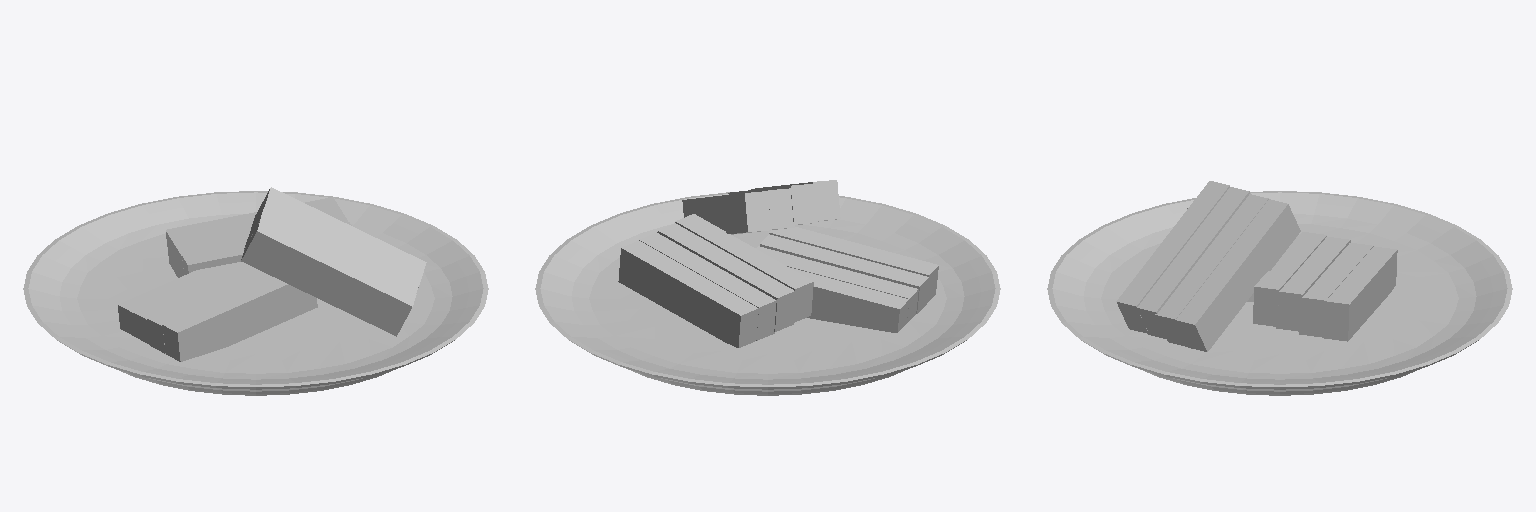
Rendered from kue lapis.obj.
The picture shows the model from 3 angles: view 1: azimuth 30°, elevation 25°; view 2: azimuth 150°, elevation 25°; view 3: azimuth 270°, elevation 25°; orthographic projection.
Visible parts, largest first — view 1: Cylinder_Cylinder.002, Cube.019_Cube.020, Cube.015_Cube.016, Cube.016_Cube.017, Cube.018_Cube.019, Cube.014_Cube.015, Cube.017_Cube.018, Cube.012_Cube.013, Cube.013_Cube.014, Cube.020_Cube.021, Cube.023_Cube.024, Cube.021_Cube.022 (+1 smaller); view 2: Cylinder_Cylinder.002, Cube.020_Cube.021, Cube.012_Cube.013, Cube.022_Cube.023, Cube.023_Cube.024, Cube.016_Cube.017, Cube.021_Cube.022, Cube.014_Cube.015, Cube.015_Cube.016, Cube.013_Cube.014, Cube.018_Cube.019, Cube.019_Cube.020 (+1 smaller); view 3: Cylinder_Cylinder.002, Cube.016_Cube.017, Cube.020_Cube.021, Cube.019_Cube.020, Cube.018_Cube.019, Cube.017_Cube.018, Cube.023_Cube.024, Cube.022_Cube.023, Cube.021_Cube.022.
Boxes of the visible parts, box(x1,y1,x2,y2) form: Cylinder_Cylinder.002: box(23, 191, 488, 395); Cube.019_Cube.020: box(241, 219, 416, 336); Cube.015_Cube.016: box(162, 276, 317, 361); Cube.016_Cube.017: box(251, 187, 426, 273); Cube.018_Cube.019: box(244, 208, 419, 292); Cube.014_Cube.015: box(147, 270, 270, 353); Cube.017_Cube.018: box(249, 199, 422, 287); Cube.012_Cube.013: box(118, 262, 243, 336); Cube.013_Cube.014: box(133, 263, 257, 344); Cube.020_Cube.021: box(166, 197, 337, 271); Cube.023_Cube.024: box(182, 222, 351, 274); Cube.021_Cube.022: box(171, 206, 342, 277); Cylinder_Cylinder.002: box(535, 192, 1000, 395); Cube.020_Cube.021: box(618, 241, 758, 347); Cube.012_Cube.013: box(789, 267, 908, 332); Cube.022_Cube.023: box(657, 223, 795, 331); Cube.023_Cube.024: box(675, 214, 813, 322); Cube.016_Cube.017: box(682, 191, 770, 234); Cube.021_Cube.022: box(639, 233, 776, 340); Cube.014_Cube.015: box(760, 234, 929, 313); Cube.015_Cube.016: box(769, 227, 938, 302); Cube.013_Cube.014: box(756, 246, 918, 322); Cube.018_Cube.019: box(728, 184, 817, 224); Cube.019_Cube.020: box(751, 180, 840, 221); Cylinder_Cylinder.002: box(1047, 191, 1512, 395); Cube.016_Cube.017: box(1175, 199, 1300, 351); Cube.020_Cube.021: box(1323, 246, 1397, 341); Cube.019_Cube.020: box(1116, 181, 1229, 333); Cube.018_Cube.019: box(1137, 187, 1249, 338); Cube.017_Cube.018: box(1155, 194, 1268, 346); Cube.023_Cube.024: box(1253, 232, 1326, 326); Cube.022_Cube.023: box(1276, 237, 1350, 331); Cube.021_Cube.022: box(1299, 243, 1373, 337).
Bounding box in the file's own units: 4.72 × 1.37 × 4.72.